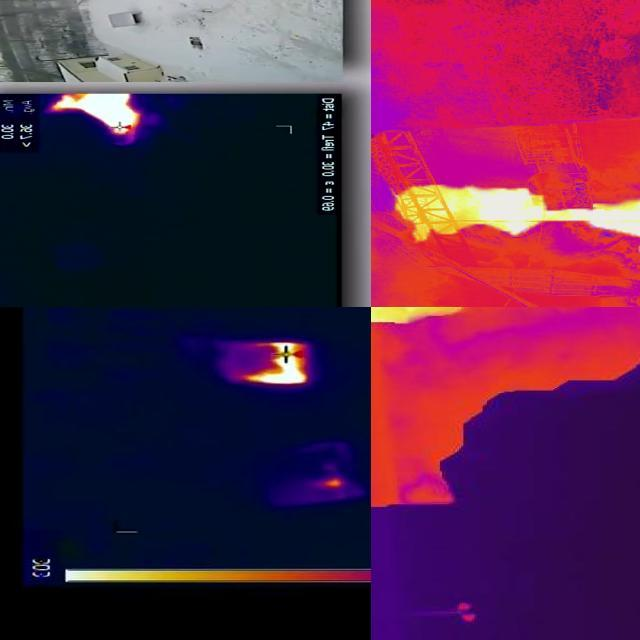fire: (395, 178, 640, 251), (49, 95, 147, 138), (237, 341, 311, 389)
